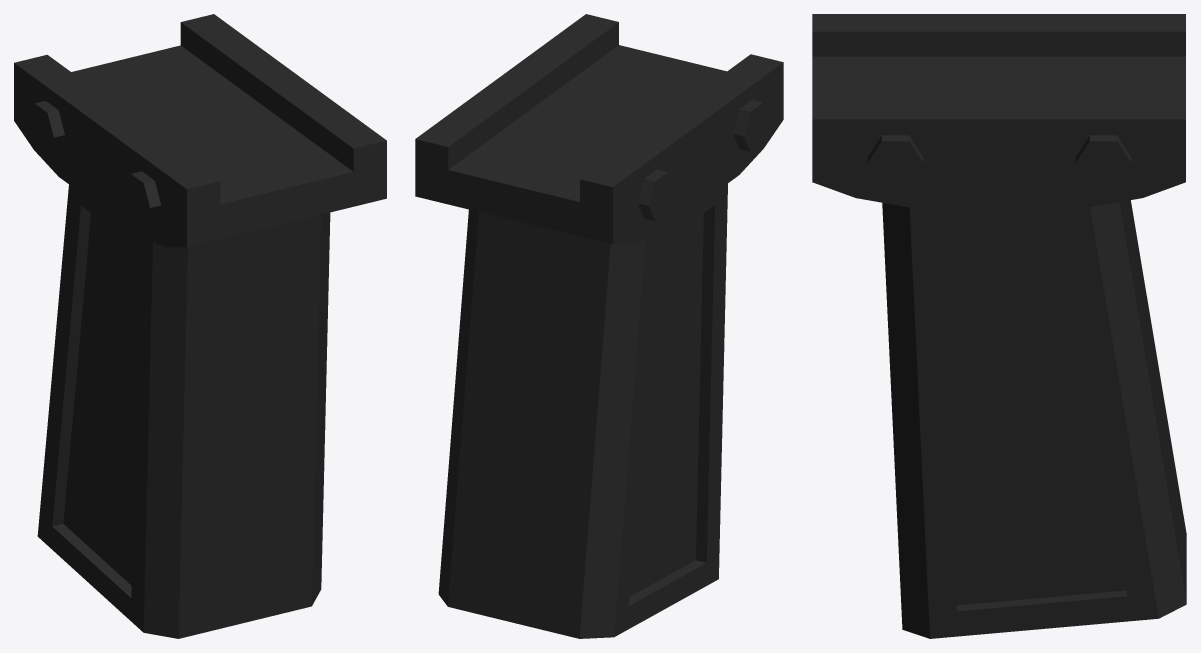
Rendered from ForwardGrip_B.fbx.
The picture shows the model from 3 angles, left to right: view 1: azimuth 30°, elevation 25°; view 2: azimuth 150°, elevation 25°; view 3: azimuth 270°, elevation 25°; orthographic projection. The views are drawn at different scales.
Parts seen in each view (by area): view 1: ForwardGrip_B; view 2: ForwardGrip_B; view 3: ForwardGrip_B.
Part boxes in pixels (x1,y1,x2,y2): ForwardGrip_B: [14, 14, 386, 638]; ForwardGrip_B: [415, 14, 783, 638]; ForwardGrip_B: [812, 14, 1186, 638].
Size of the model in its own units: 0.2 by 0.42 by 0.27.
